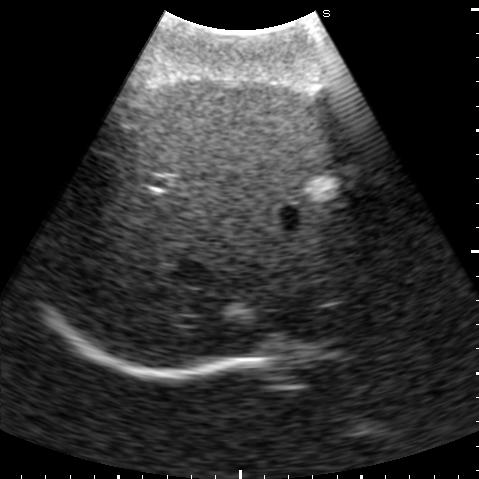S5: (116, 80, 357, 192)
S7: (44, 148, 173, 326)
S8: (113, 179, 386, 365)
Tumor: (304, 174, 341, 196), (224, 303, 252, 321)
